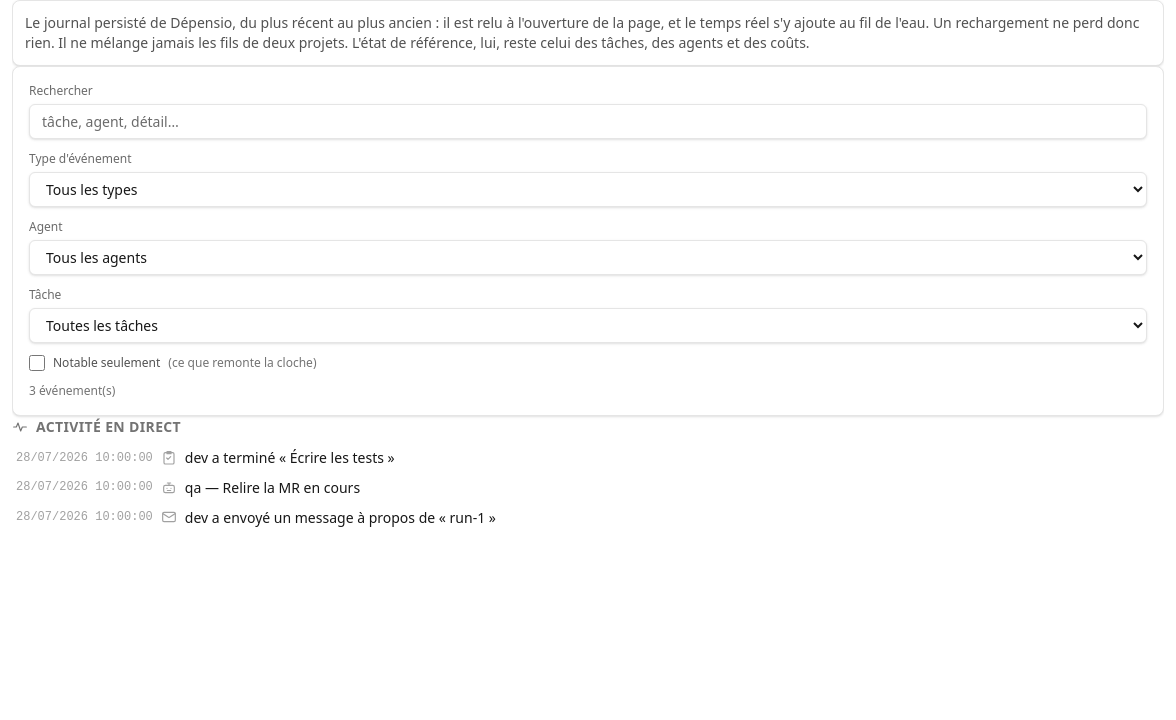
Test case: la page Journal › filtre par tâche, titre en clair
Select "Relire la MR" in the dropdown labelled "Tâche": (588, 325) [29,308,1147,343]
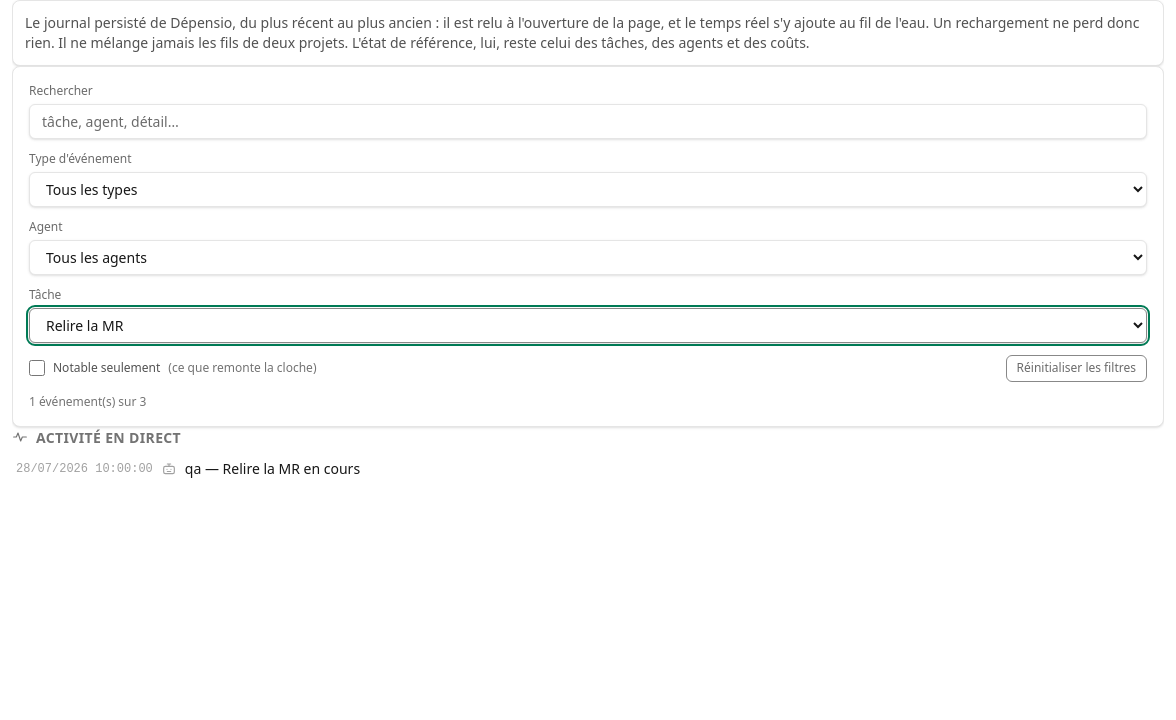
Check: the number of list items is 1, box [12,456,1164,482]
